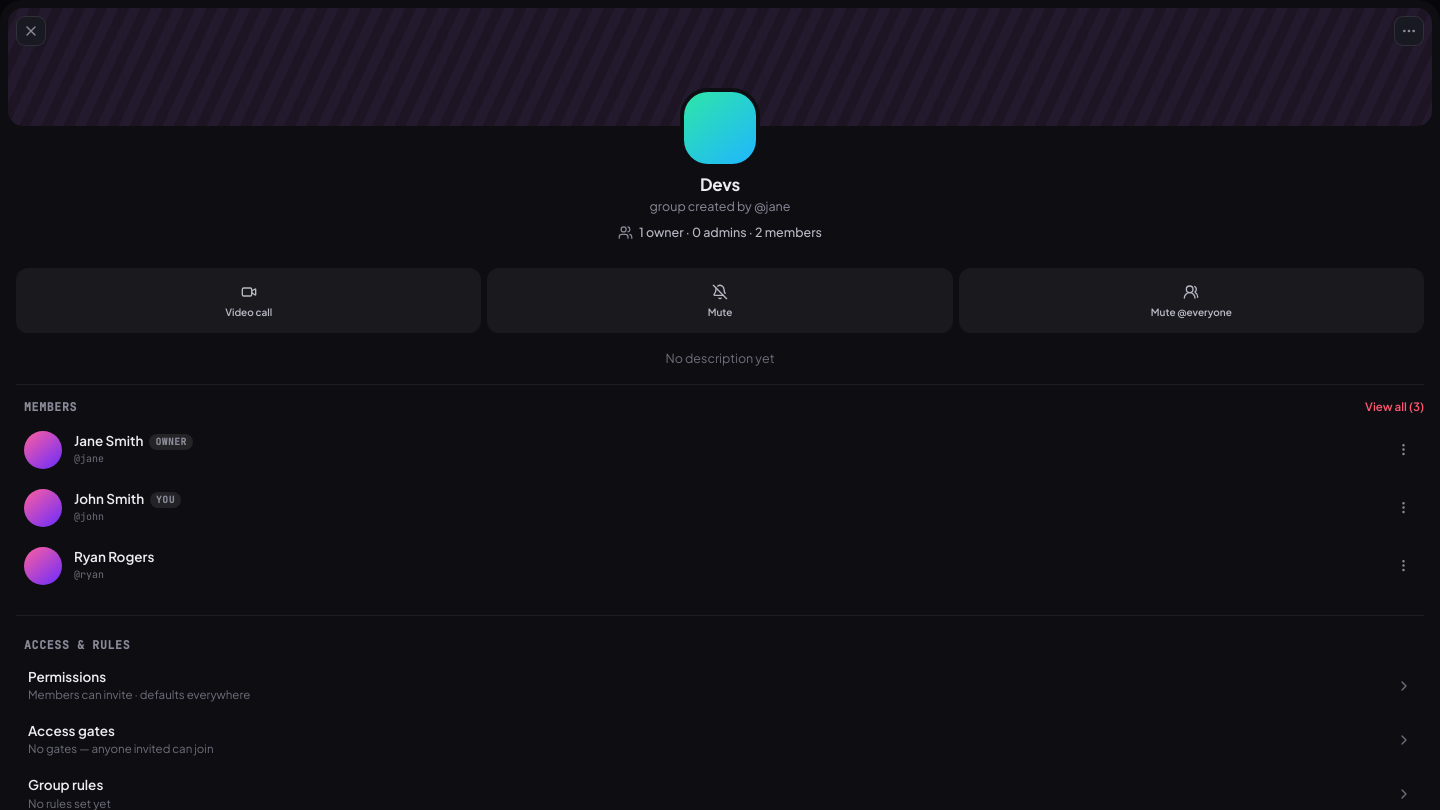
Test: GroupPanel mute › muting picks a span and shows it at once
This screenshot has width=1440, height=810.
Click the button with class "tile" showing "Mute".
click(720, 300)  # box [487, 268, 953, 333]
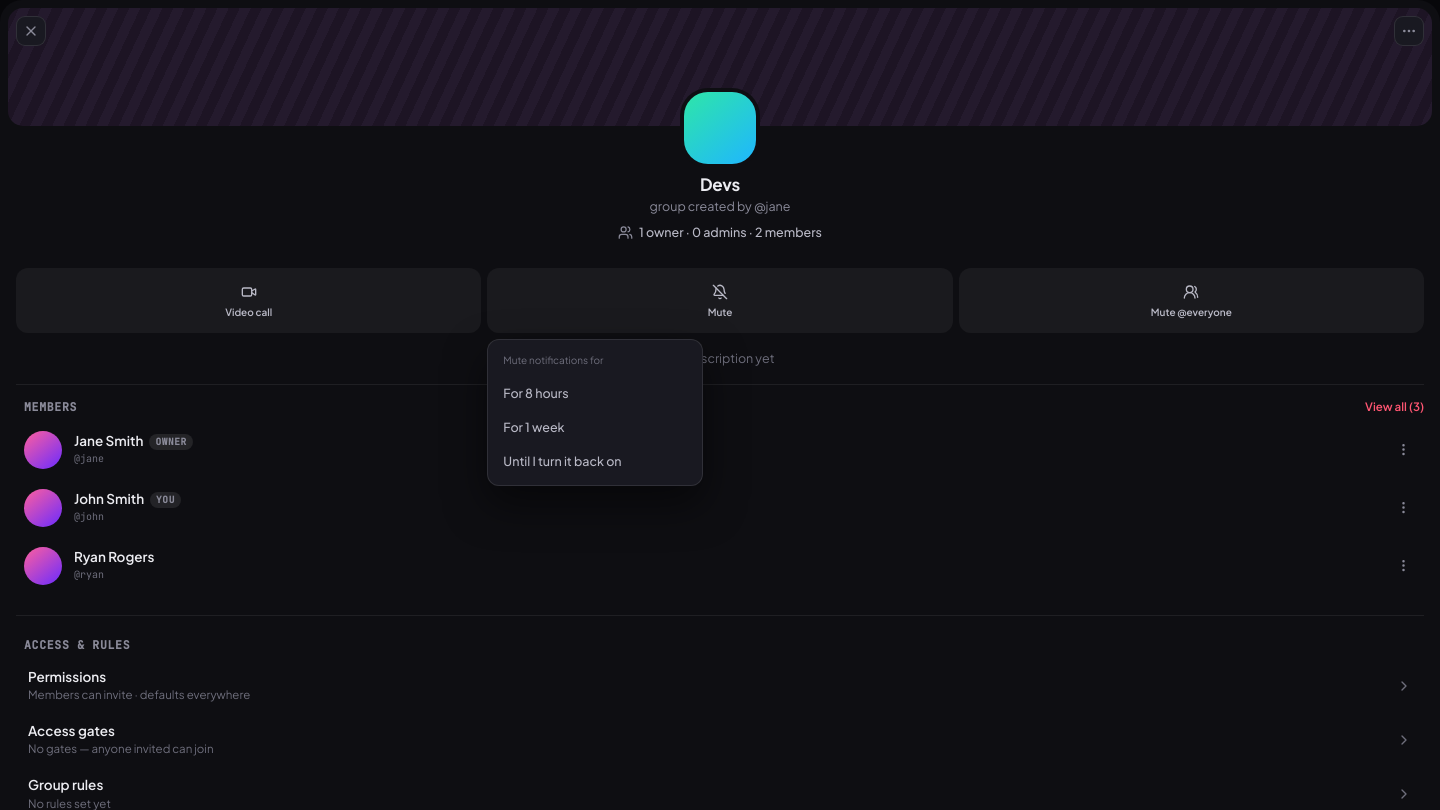
Click the button with class "mute-option" showing "For 8 hours".
click(536, 393)  # box [503, 385, 569, 401]
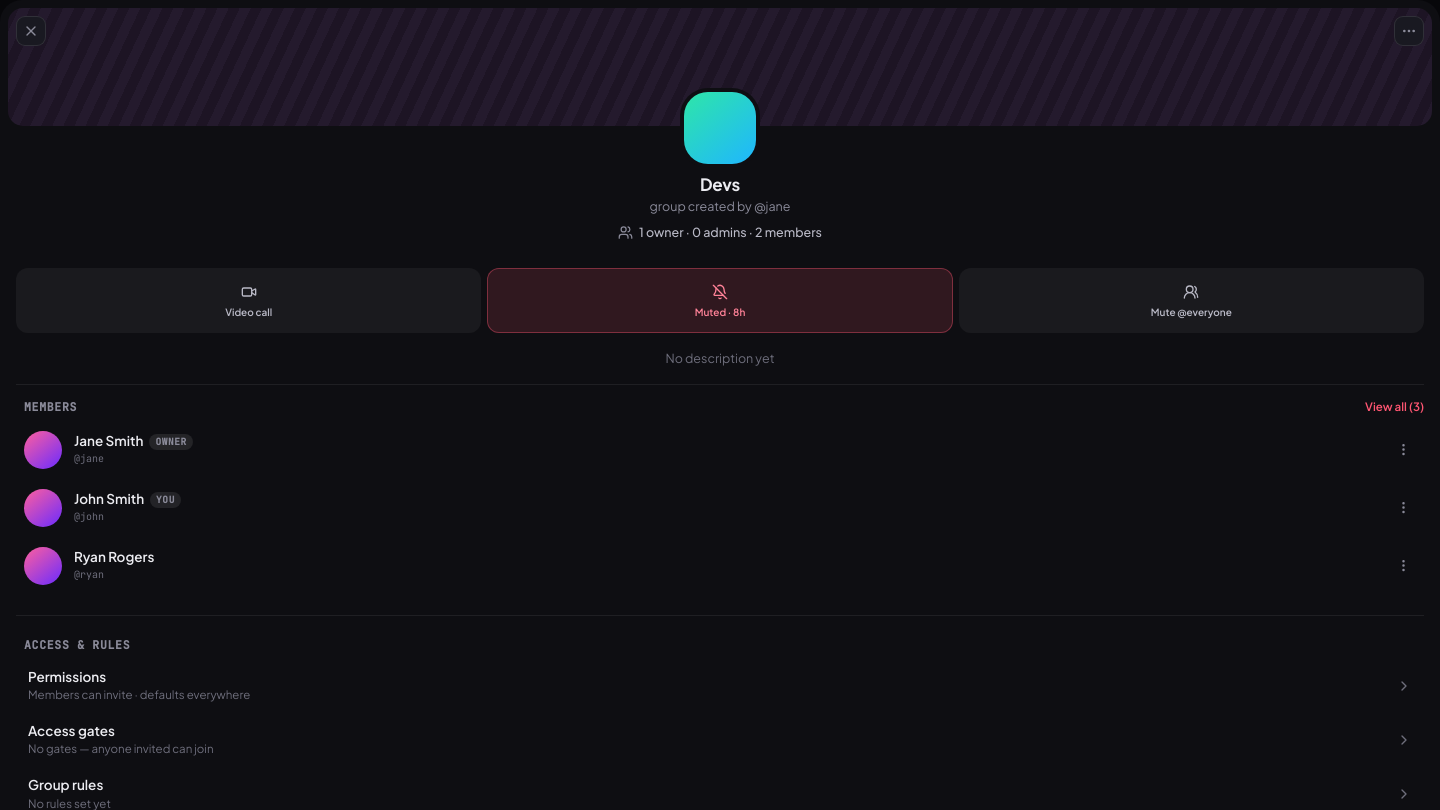
expect the text "Muted · 8h" is shown: met, box [695, 307, 745, 317]
